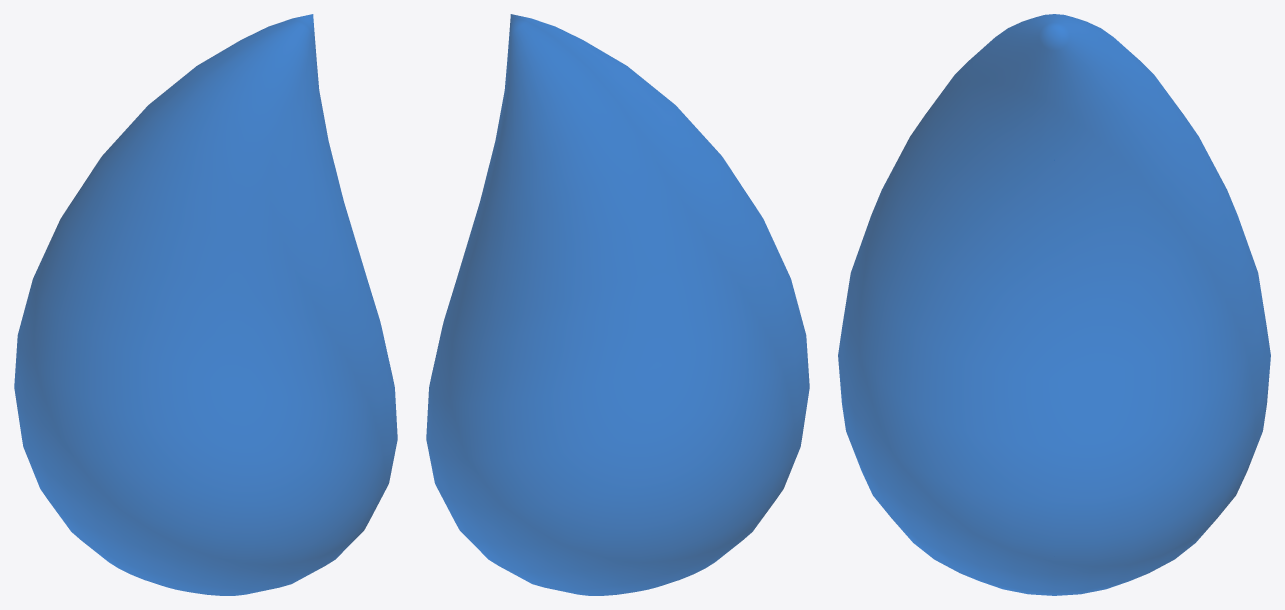
Rendered from Flame Speck.dae.
The picture shows the model from 3 angles, left to right: view 1: azimuth 30°, elevation 25°; view 2: azimuth 150°, elevation 25°; view 3: azimuth 270°, elevation 25°; orthographic projection. The views are drawn at different scales.
Visible parts, largest first — view 1: Flame Speck; view 2: Flame Speck; view 3: Flame Speck.
Part boxes in pixels (box(x1,y1,x2,y2)): Flame Speck: box(14, 14, 397, 595); Flame Speck: box(426, 14, 809, 595); Flame Speck: box(838, 14, 1270, 595).
Size of the model in its own units: 0.1073 by 0.1112 by 0.168.
